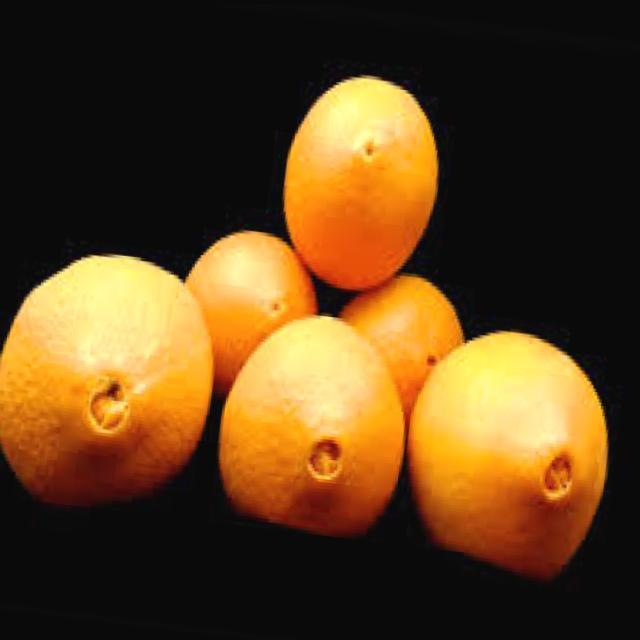orange: (0, 239, 224, 521), (393, 315, 620, 584), (212, 303, 418, 539), (272, 70, 452, 300), (172, 221, 328, 408), (326, 262, 472, 429)
